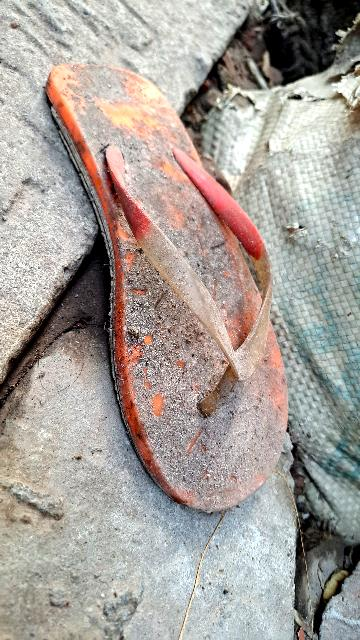sandal: (0, 26, 342, 532)
